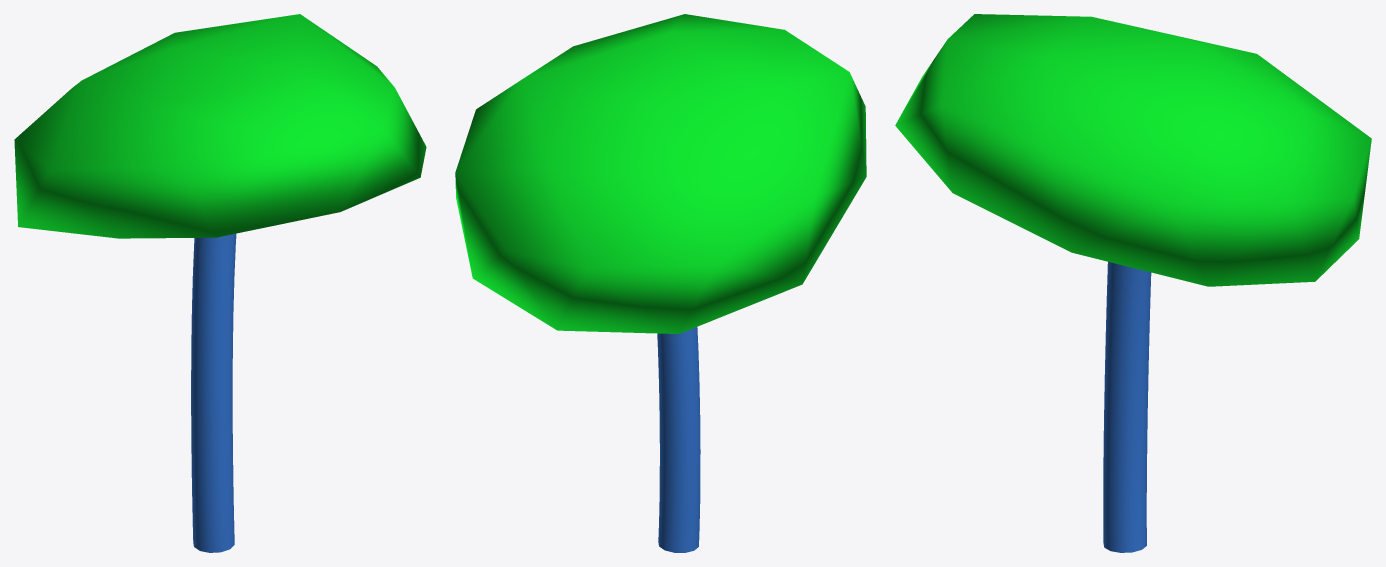
Rendered from hongoPeq0-0.fbx.
3 views of the same model, side by side, from view 1: azimuth 30°, elevation 25°; view 2: azimuth 150°, elevation 25°; view 3: azimuth 270°, elevation 25° (orthographic). The views are drawn at different scales.
Parts seen in each view (by area): view 1: Esfera geodésica.008, Curva Bezier; view 2: Esfera geodésica.008, Curva Bezier; view 3: Esfera geodésica.008, Curva Bezier.
Part boxes in pixels (x1,y1,x2,y2): Esfera geodésica.008: [14, 14, 426, 238]; Curva Bezier: [191, 233, 236, 552]; Esfera geodésica.008: [455, 14, 866, 333]; Curva Bezier: [657, 327, 700, 552]; Esfera geodésica.008: [895, 14, 1371, 286]; Curva Bezier: [1103, 262, 1151, 552].
Bounding box in the file's own units: 190 × 254 × 215.
